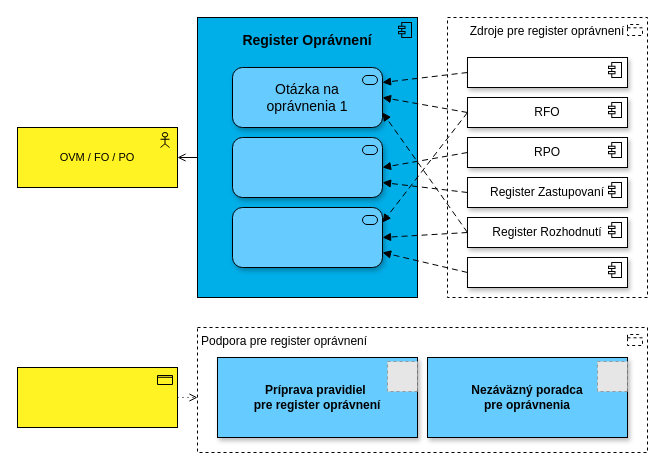
Image size: 665x470. Some labels were removed from this diagram. Grey dashed boxes stand in for pictures. The shapes that lost their labels are listed below. From the top down, each one's centre as x and y in pixels, then its label:
At (548,73): "Register Kompetencií".
At (308,168): "Otázka na oprávnenia 2".
At (308,238): "Otázka na oprávnenia ...".
At (548,273): "Register X".
At (97,397): "Legislatíva".
